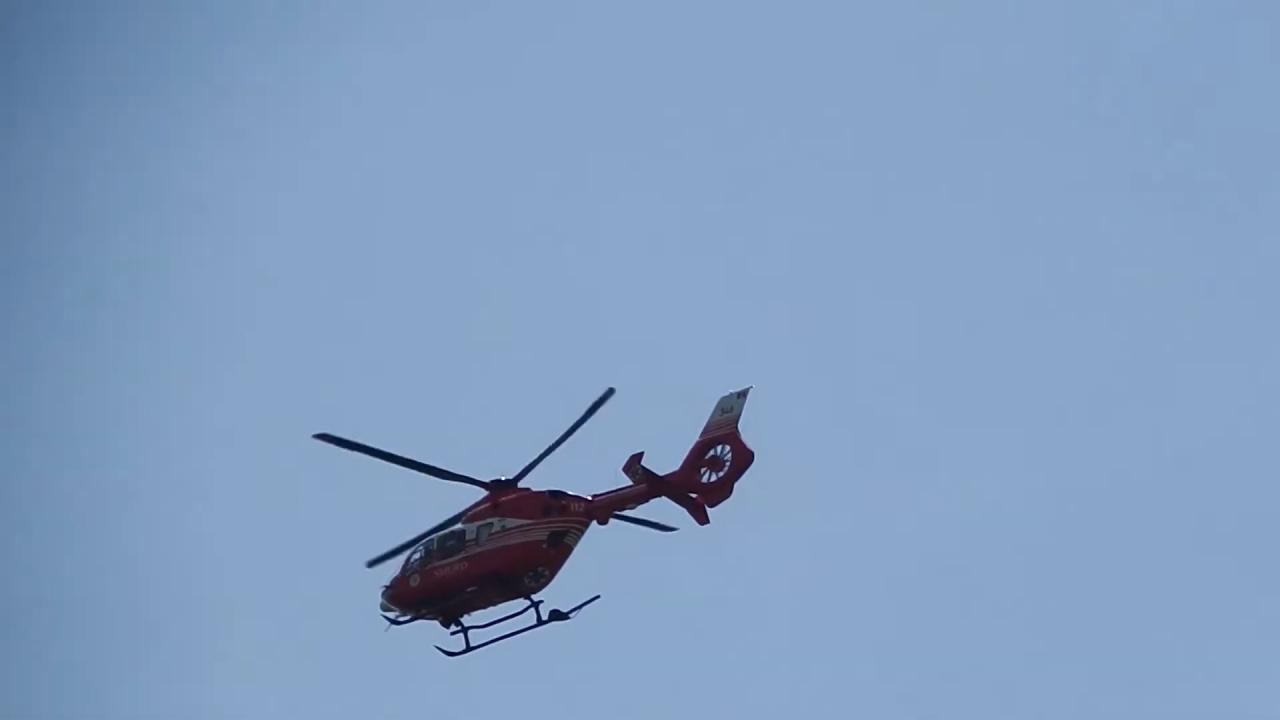Helicopter: (280, 372, 776, 669)
